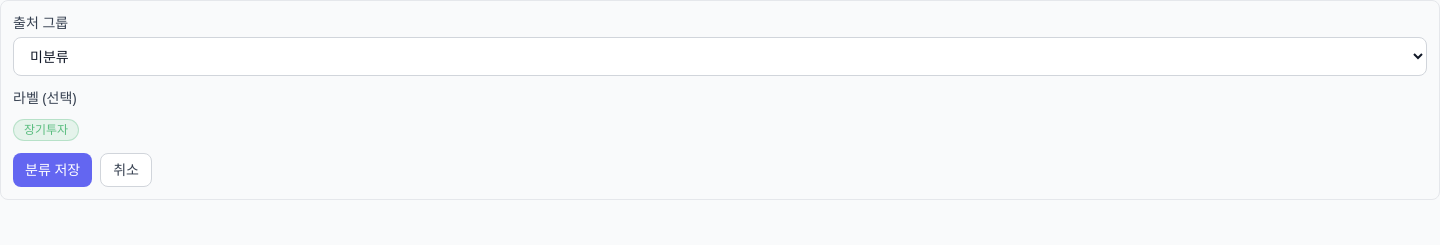
Test case: TransactionClassificationEditor › shows the error and stays open when the update fails
Click the button "분류 저장": x=53, y=170 x1=13 y1=153 x2=92 y2=187
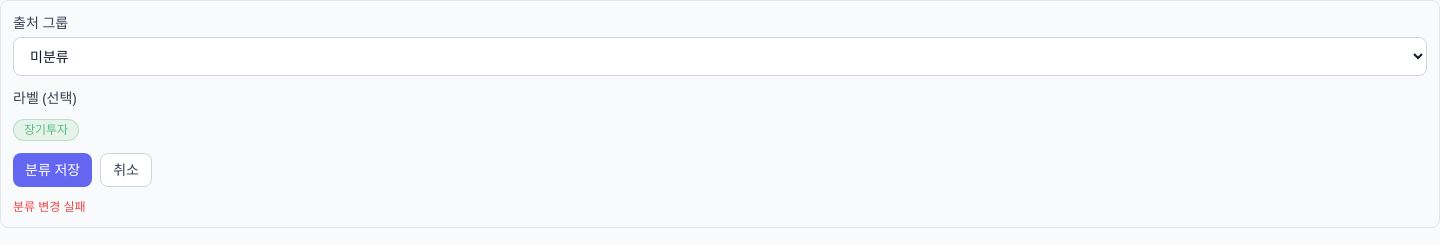
Expected: the text "분류 변경 실패" is shown, x1=13 y1=198 x2=86 y2=215
